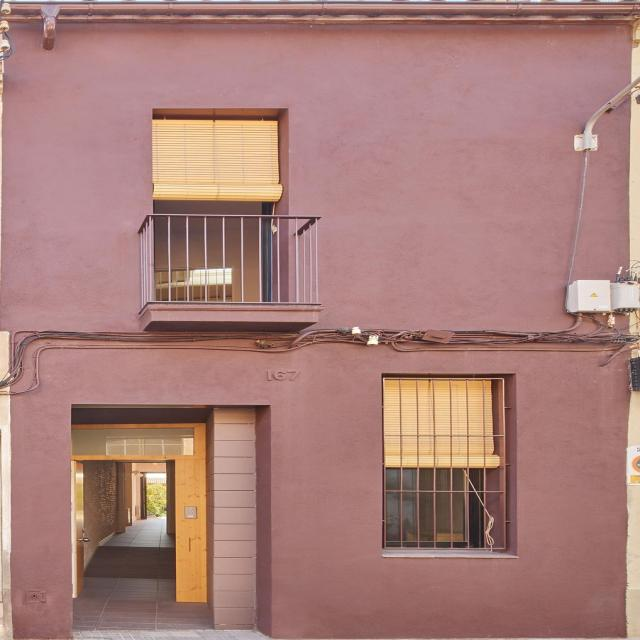door: (76, 422, 204, 597)
railing: (139, 213, 321, 316)
window: (381, 377, 508, 550)
